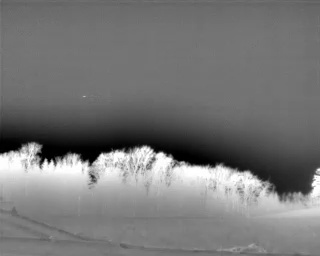BIRD: (81, 93, 87, 100)
